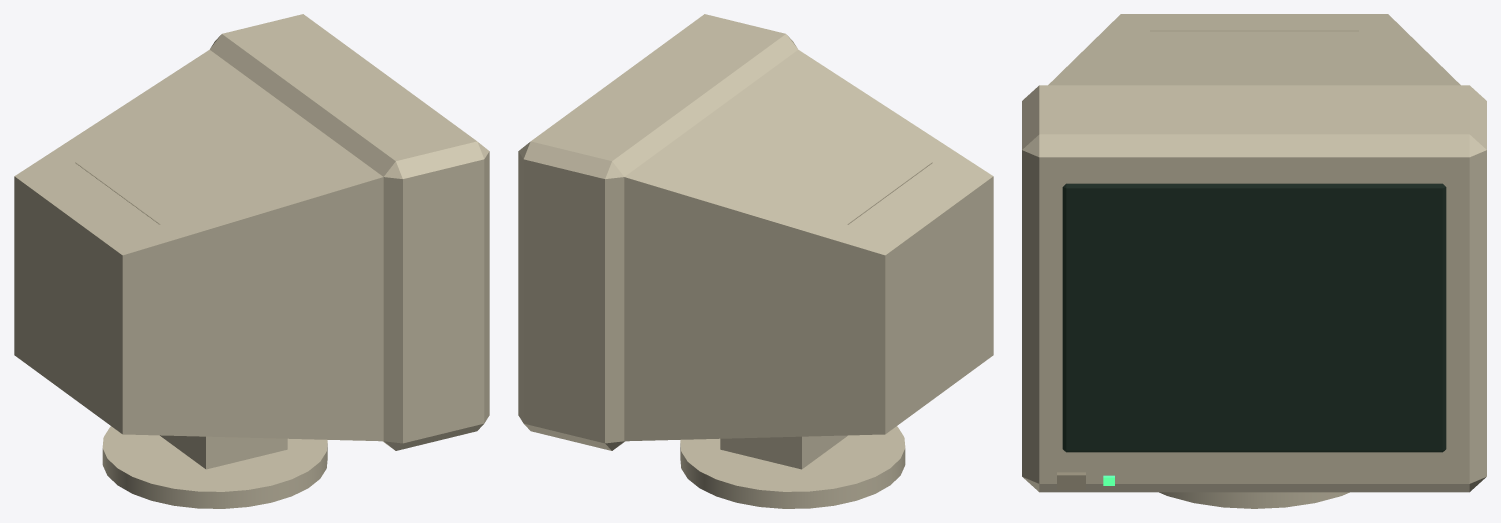
Rendered from CRTMonitor.gltf.
3 renders of one model, left to right at view 1: azimuth 30°, elevation 25°; view 2: azimuth 150°, elevation 25°; view 3: azimuth 270°, elevation 25°, orthographic. The views are drawn at different scales.
Parts seen in each view (by area): view 1: CRTMonitor; view 2: CRTMonitor; view 3: CRTMonitor.
Part boxes in pixels (x1,y1,x2,y2): CRTMonitor: (14, 14, 489, 508); CRTMonitor: (518, 14, 993, 508); CRTMonitor: (1022, 14, 1486, 508).
Bounding box in the file's own units: 0.416 × 0.4 × 0.4.
